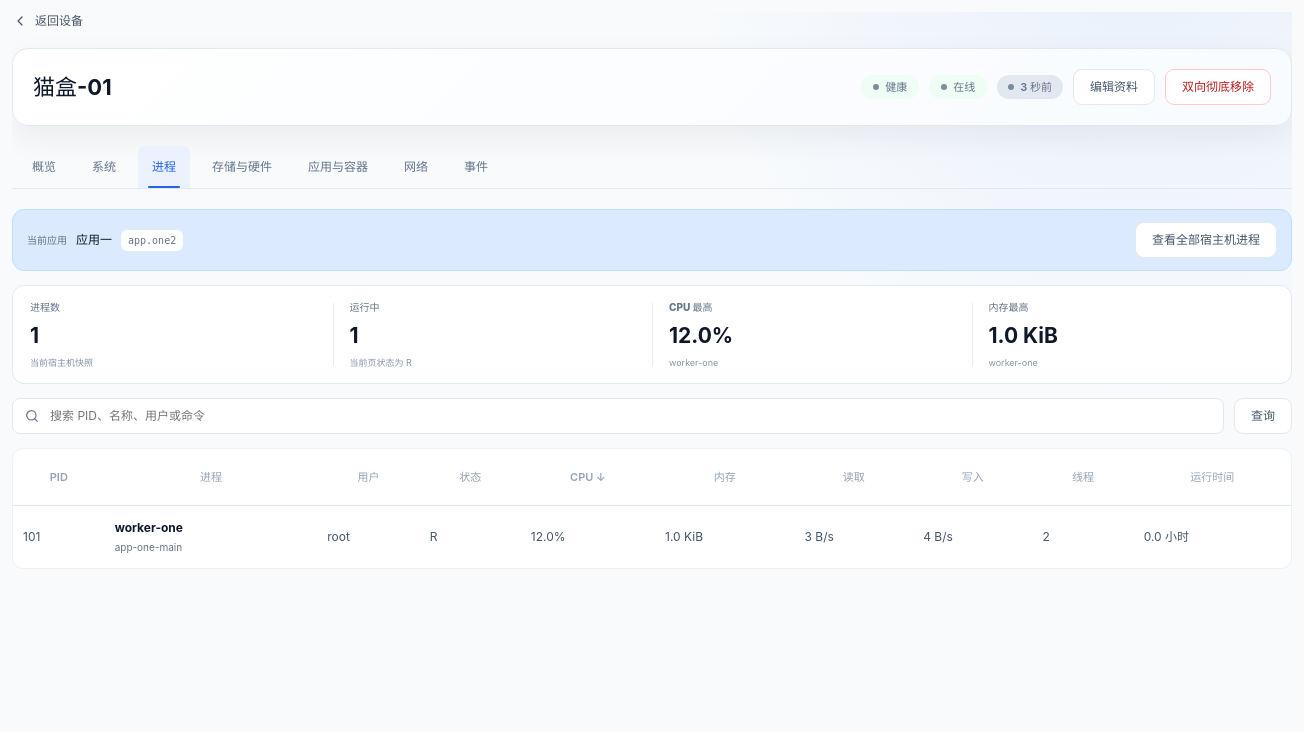
Test: DevicesPage detail tabs › opens the canonical process view from an application deep link and can return to all host processes
Expected: the element showing "当前应用 应用一 app.one2 查看全部宿主机进程" is shown, [12,209,1292,271]
Expected: the table shows "worker-one", [115,520,183,535]
Step 1. Click the button "查看全部宿主机进程" → (1206, 240), box [1135,222,1277,258]
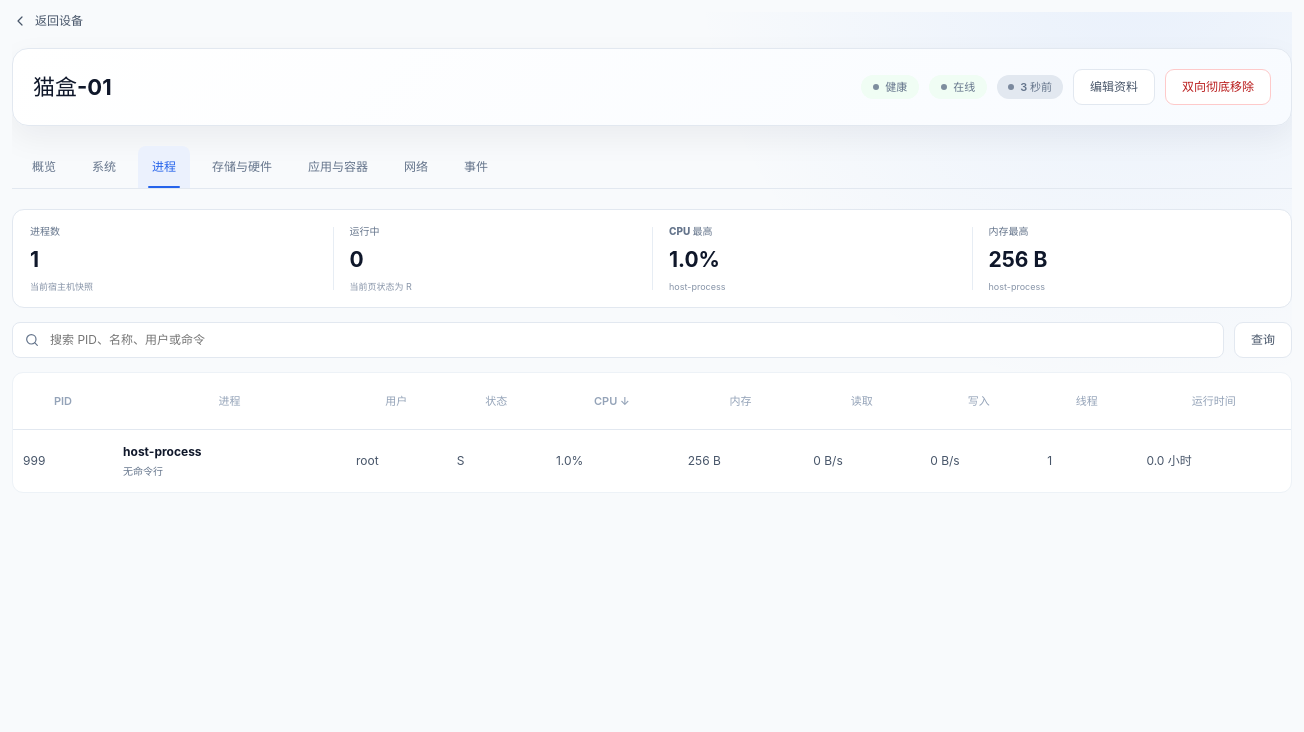
Now the table shows "host-process", box [123,444,202,459]
